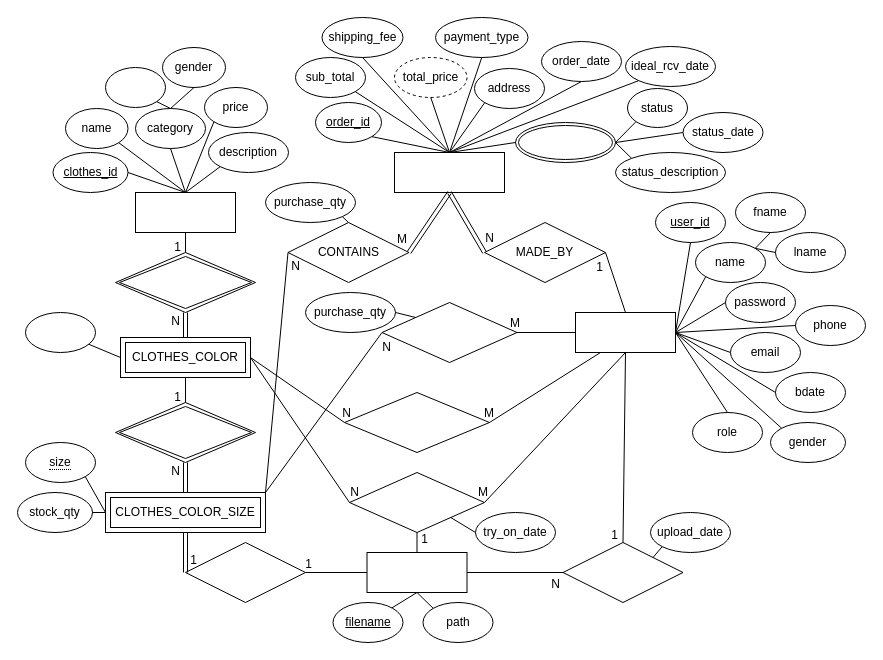
Image size: 883x660. Some labels were removed from this diagram. Each missing label, with the box of its shape:
ADD_TO_BAG: (381, 302, 517, 362)
ADD_TO_FAVORITE: (344, 392, 490, 452)
CLOTHES: (134, 192, 236, 232)
color: (24, 312, 96, 352)
HAVE_COLORS: (114, 252, 256, 312)
HAVE_IMAGE: (184, 542, 306, 602)
HAVE_SIZES: (114, 402, 256, 462)
IMAGE: (366, 552, 467, 592)
ORDER: (394, 152, 504, 192)
part: (104, 66, 166, 108)
status_record: (514, 122, 616, 162)
TRIES_ON: (348, 472, 484, 532)
UPLOADS: (562, 542, 683, 602)
USER: (574, 312, 676, 352)
